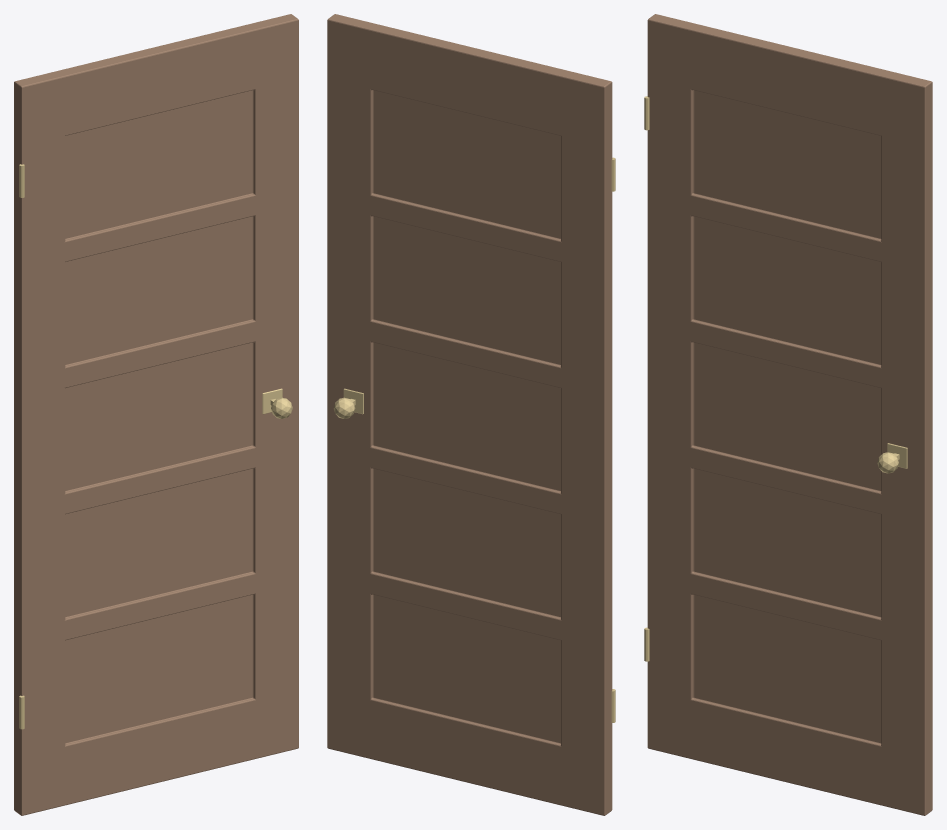
File: door_entry.glb
The picture shows the model from 3 angles, left to right: view 1: azimuth 30°, elevation 25°; view 2: azimuth 150°, elevation 25°; view 3: azimuth 330°, elevation 25°; orthographic projection.
Visible parts, largest first — view 1: door_entry_door, door_entry_brass; view 2: door_entry_door, door_entry_brass; view 3: door_entry_door, door_entry_brass.
Part boxes in pixels (bbox=[...]): door_entry_door: bbox=[14, 14, 298, 815]; door_entry_brass: bbox=[19, 164, 292, 729]; door_entry_door: bbox=[327, 14, 612, 815]; door_entry_brass: bbox=[333, 157, 615, 722]; door_entry_door: bbox=[647, 14, 932, 815]; door_entry_brass: bbox=[644, 96, 907, 661].
Size of the model in its own units: 0.827 by 2.06 by 0.196.
